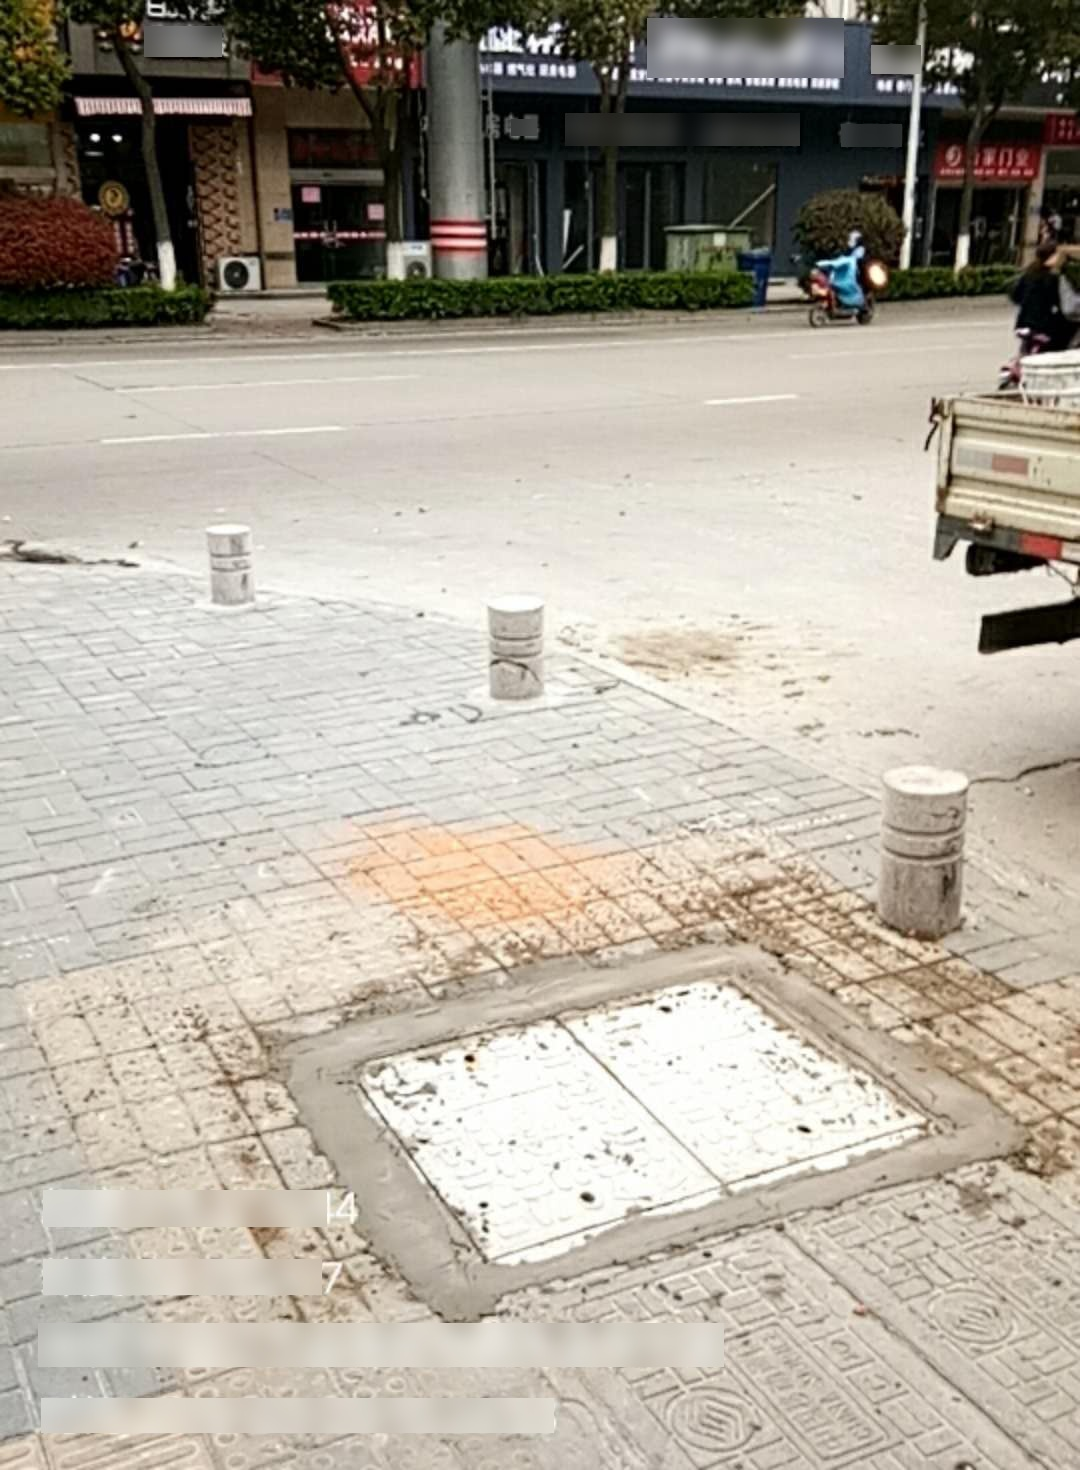well: (342, 962, 948, 1276)
